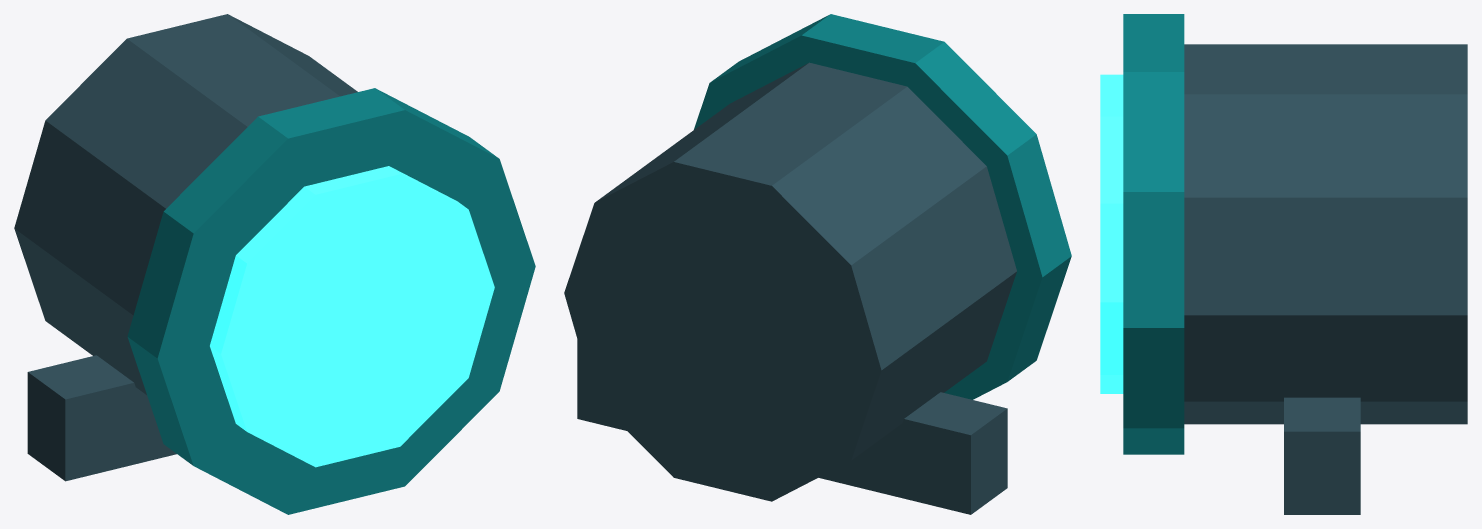
The model's file is lamp.glb.
The picture shows the model from 3 angles, left to right: view 1: azimuth 30°, elevation 25°; view 2: azimuth 150°, elevation 25°; view 3: azimuth 270°, elevation 25°; orthographic projection. The views are drawn at different scales.
Parts seen in each view (by area): view 1: Rim, Lens, Drum, Yoke; view 2: Drum, Rim, Yoke; view 3: Drum, Rim, Yoke, Lens.
Part boxes in pixels (box(x1,y1,x2,y2)): Rim: box(127, 88, 535, 514); Lens: box(210, 166, 494, 467); Drum: box(14, 14, 357, 394); Yoke: box(27, 355, 176, 481); Drum: box(564, 62, 1016, 501); Rim: box(694, 14, 1071, 399); Yoke: box(577, 339, 1007, 514); Drum: box(1184, 44, 1467, 424); Rim: box(1123, 14, 1184, 454); Yoke: box(1284, 397, 1360, 514); Lens: box(1100, 74, 1123, 393).
Bounding box in the file's own units: 0.62 × 0.5516 × 0.48.
